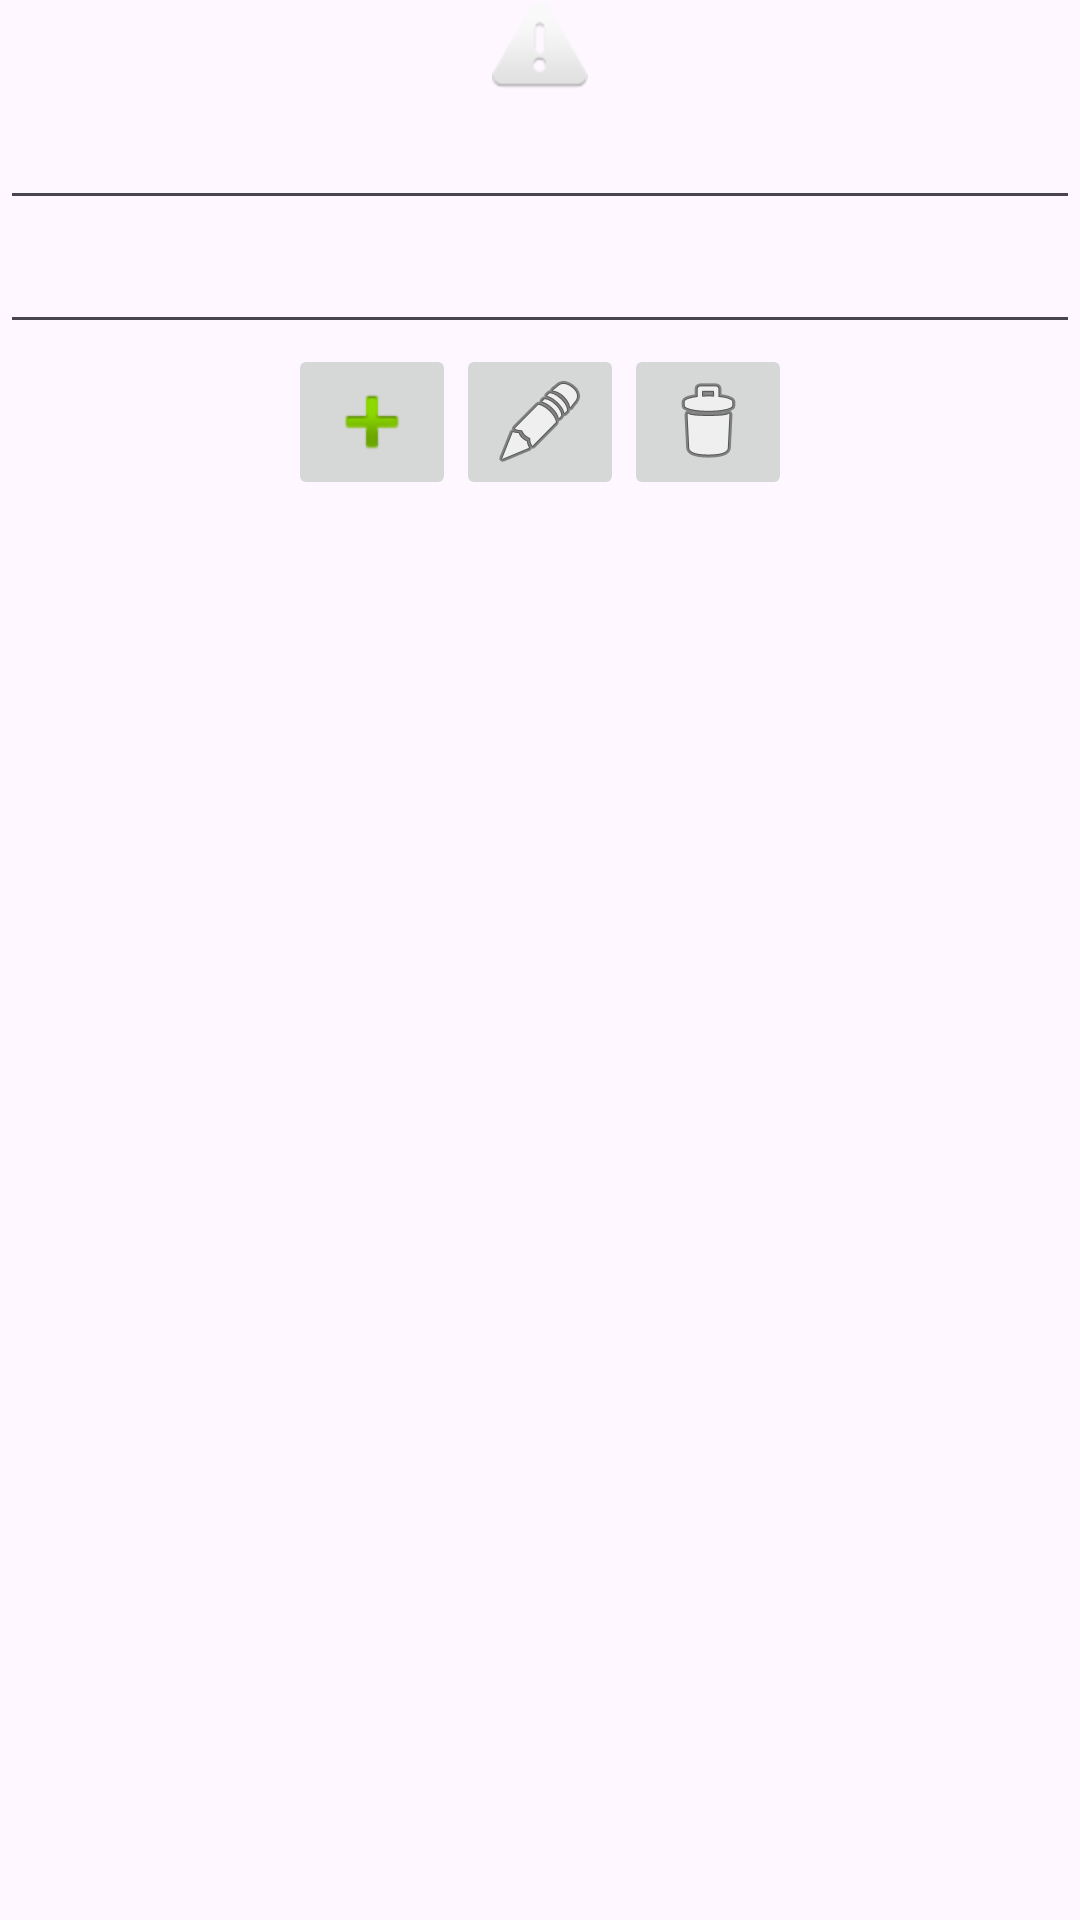

Icons on this 1080x1920 Android screen, each with its box as box(x1, y1, x2, y2):
add: box(300, 362, 444, 482)
alert: box(492, 22, 588, 87)
delete: box(636, 362, 780, 482)
edit: box(468, 362, 612, 482)
